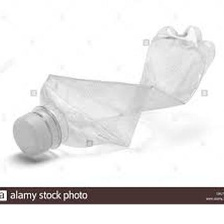bottle: (9, 22, 216, 163)
